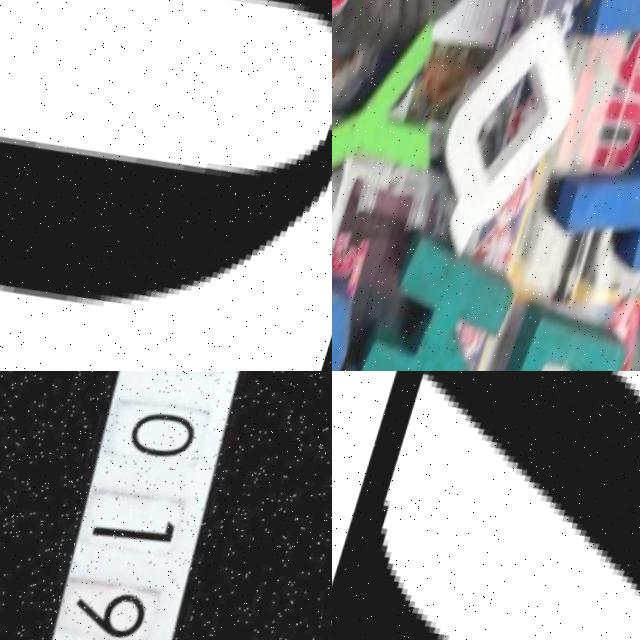0: (119, 394, 228, 476), (132, 371, 253, 392)
1: (90, 479, 206, 567)
9: (66, 571, 176, 640)
D: (490, 306, 640, 371)
K: (357, 231, 534, 371)
Q: (415, 2, 600, 263)
T: (556, 110, 640, 283)
Y: (332, 4, 474, 224)
Z: (332, 371, 640, 640)
